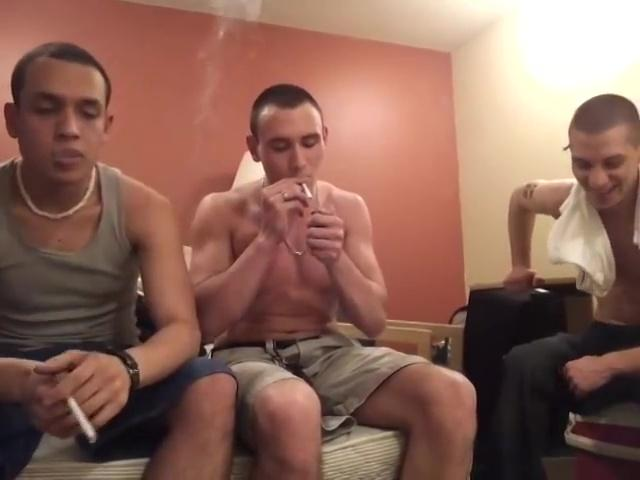cigarette: (66, 393, 103, 447), (302, 180, 316, 201)
